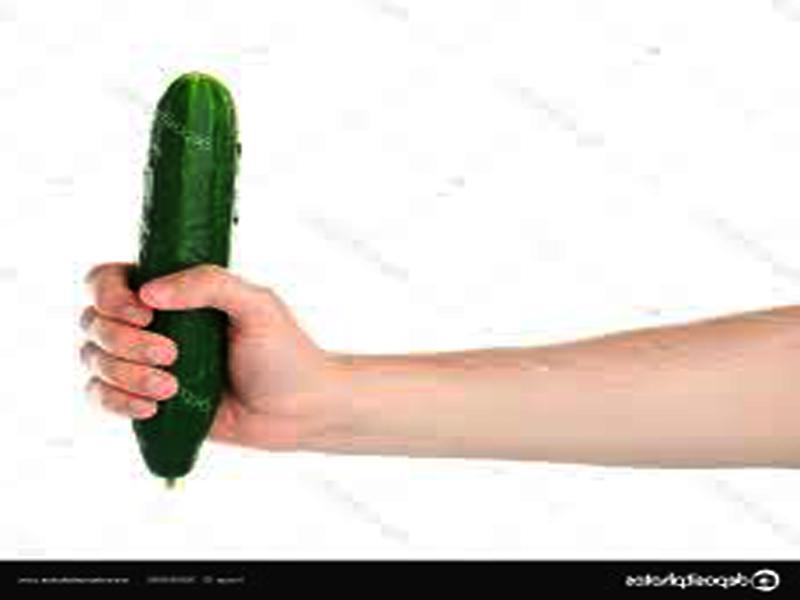Cucumber: (132, 74, 237, 485)
